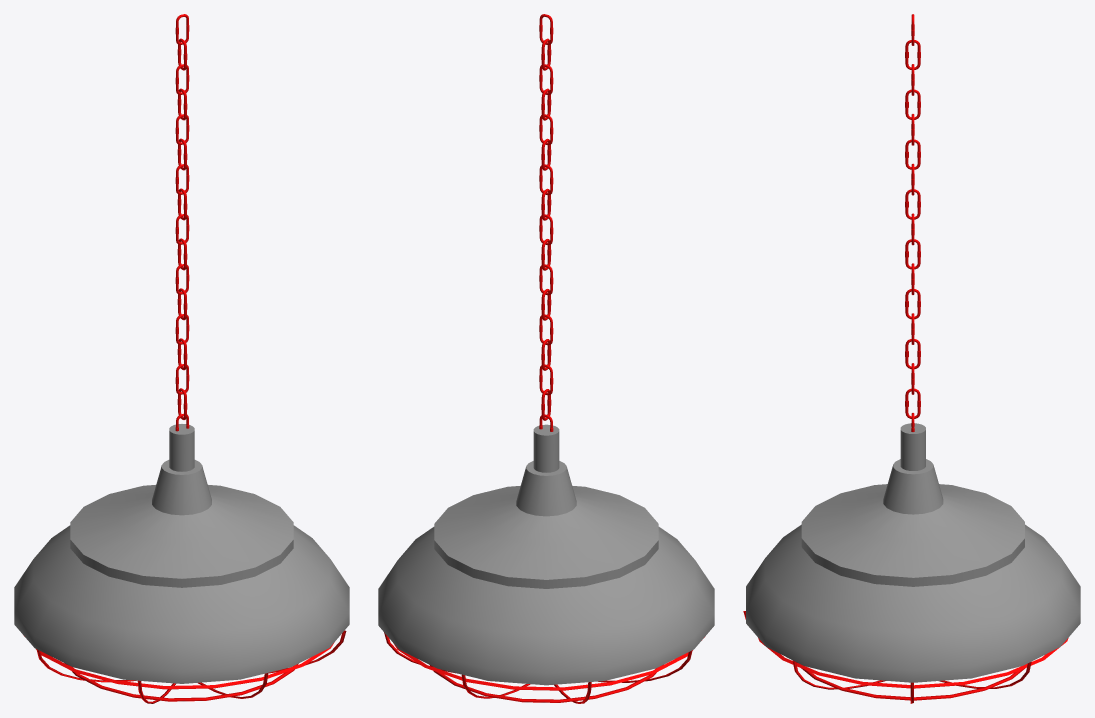
Rendered from sm_overheadlight_01.FBX.
The picture shows the model from 3 angles, left to right: view 1: azimuth 30°, elevation 25°; view 2: azimuth 150°, elevation 25°; view 3: azimuth 270°, elevation 25°; orthographic projection.
Parts seen in each view (by area): view 1: sm_overheadlight_01; view 2: sm_overheadlight_01; view 3: sm_overheadlight_01.
Part boxes in pixels (x1,y1,x2,y2): sm_overheadlight_01: (14, 14, 349, 703); sm_overheadlight_01: (378, 14, 714, 703); sm_overheadlight_01: (743, 14, 1080, 703).
Size of what is drawn, in the model's own units: 37.47 by 79.84 by 37.2.
